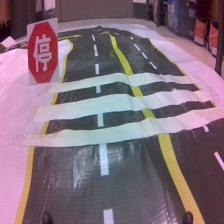stop: (26, 18, 61, 86)
